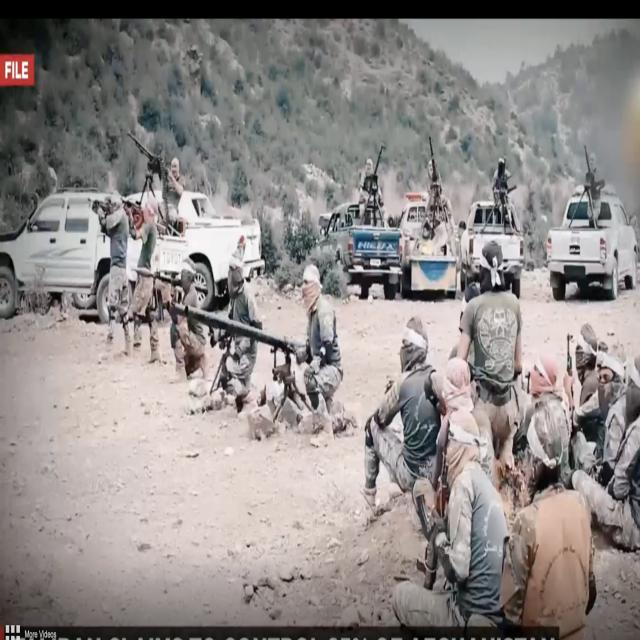bazooka: (167, 311, 318, 370), (131, 265, 190, 290)
